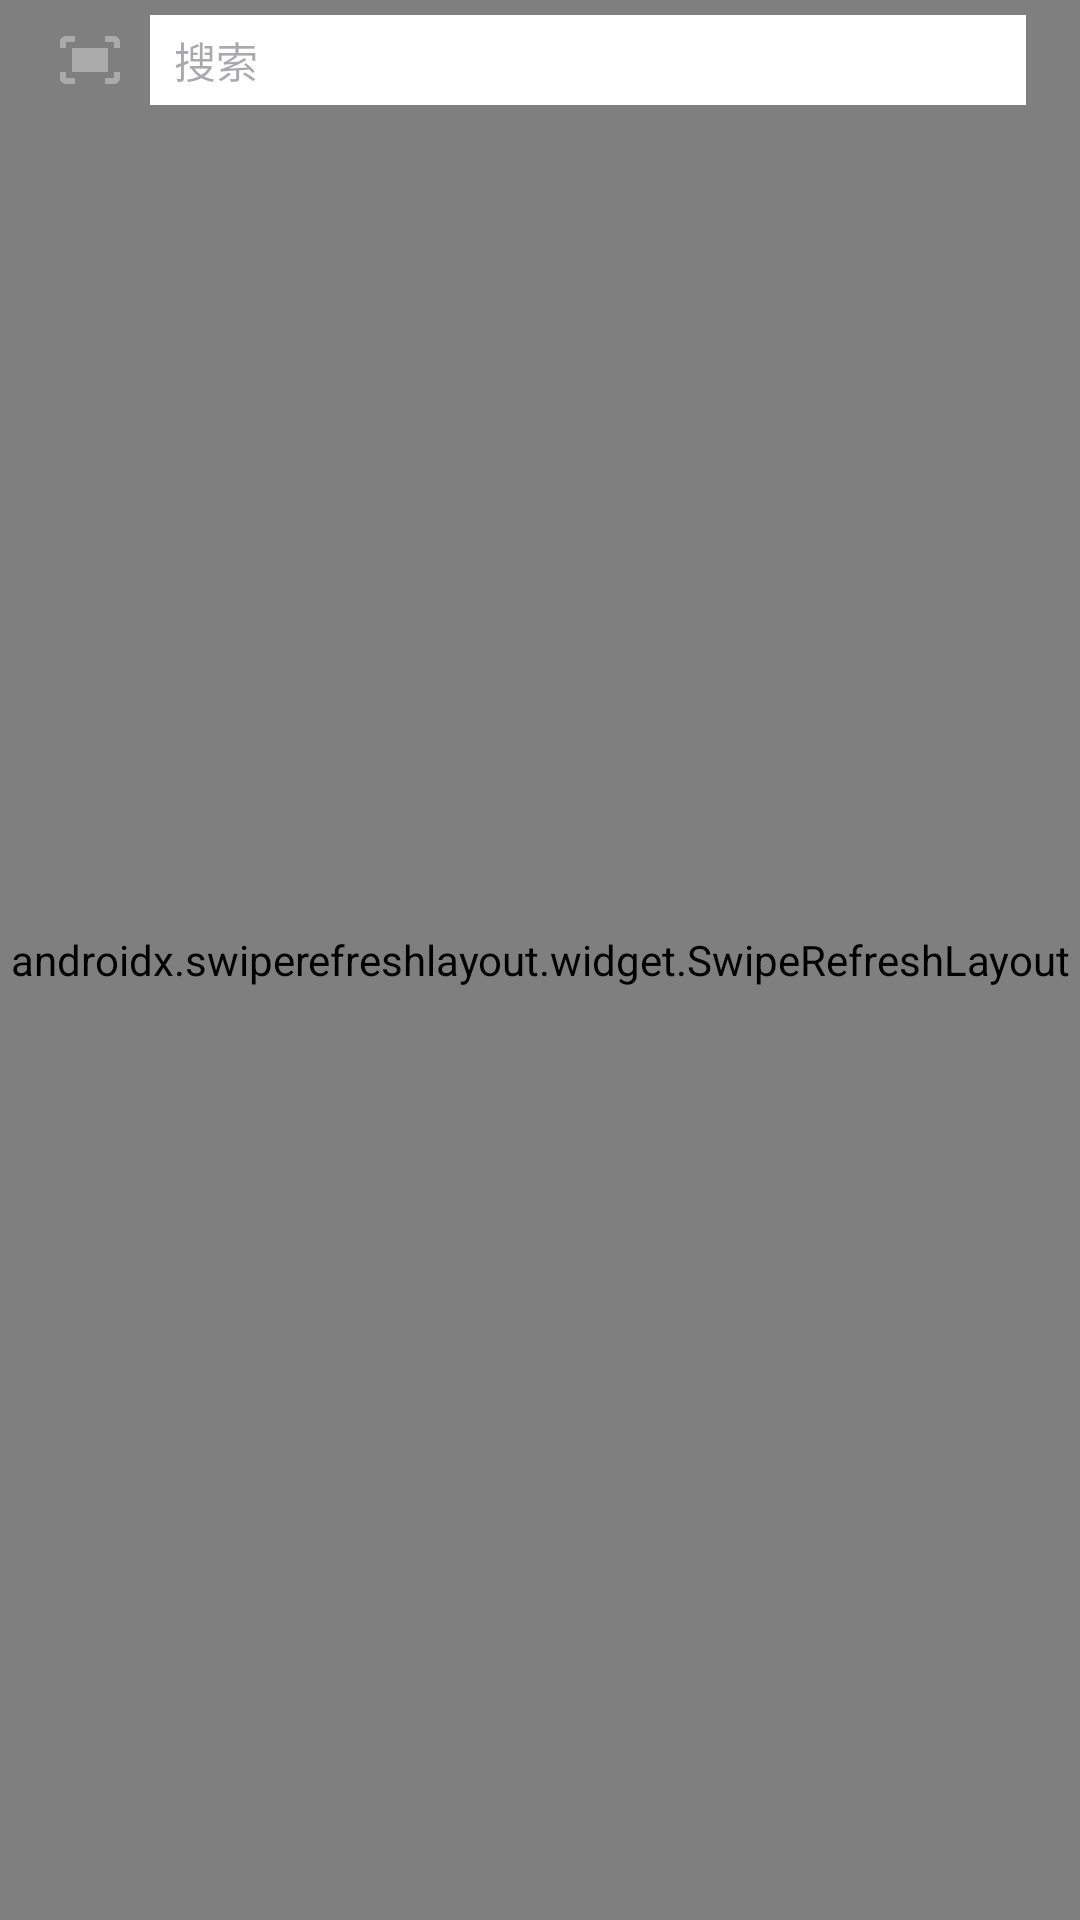

Locate icon controls on the screen. Image size 1080px×1920px, boxes as (x1, y1, x2, y2).
home scan: (60, 36, 120, 84)
